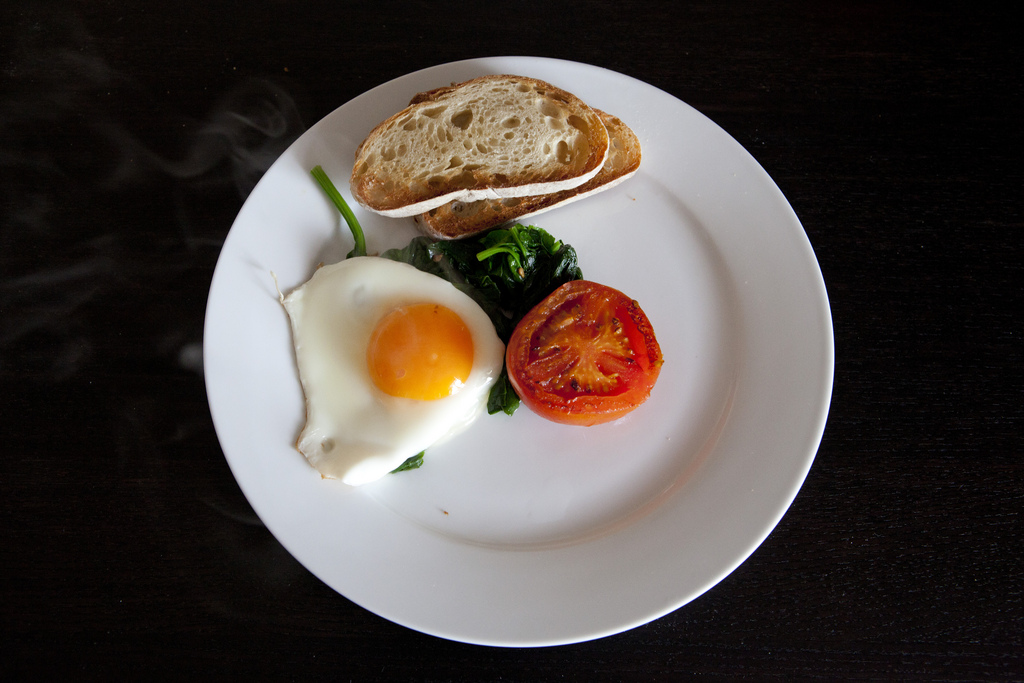fried egg: (277, 264, 506, 492)
slice of bread: (351, 77, 658, 248)
